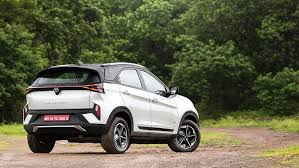Tata Nexon: (21, 64, 202, 154)
